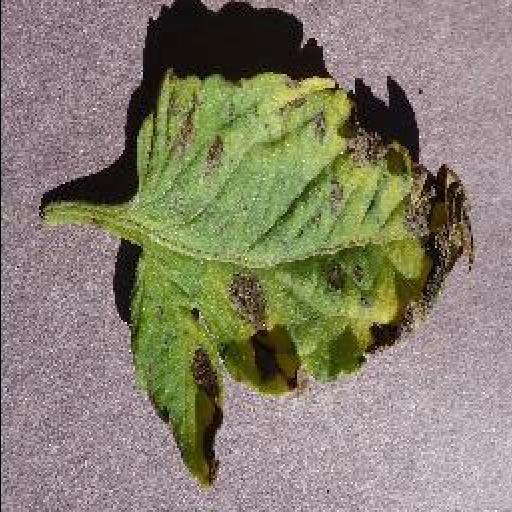disease_tomato: (120, 66, 474, 488)
